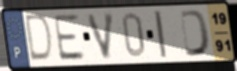0: (120, 11, 147, 60)
D: (179, 8, 212, 58), (25, 13, 55, 64)
E: (51, 13, 87, 63)
I: (152, 9, 169, 60)
V: (85, 11, 117, 61)
